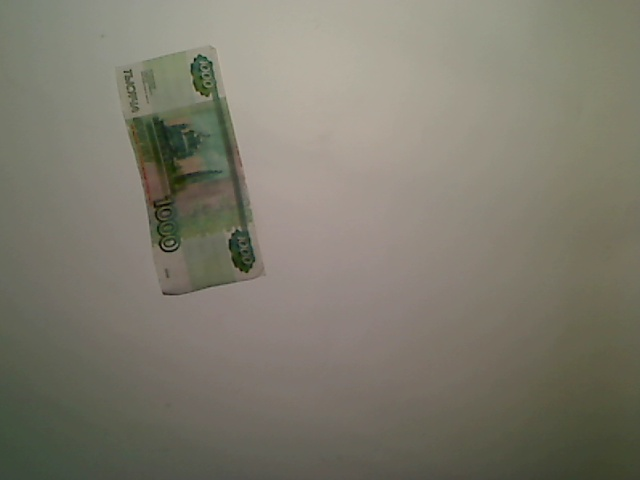banknotes: (110, 37, 271, 298)
